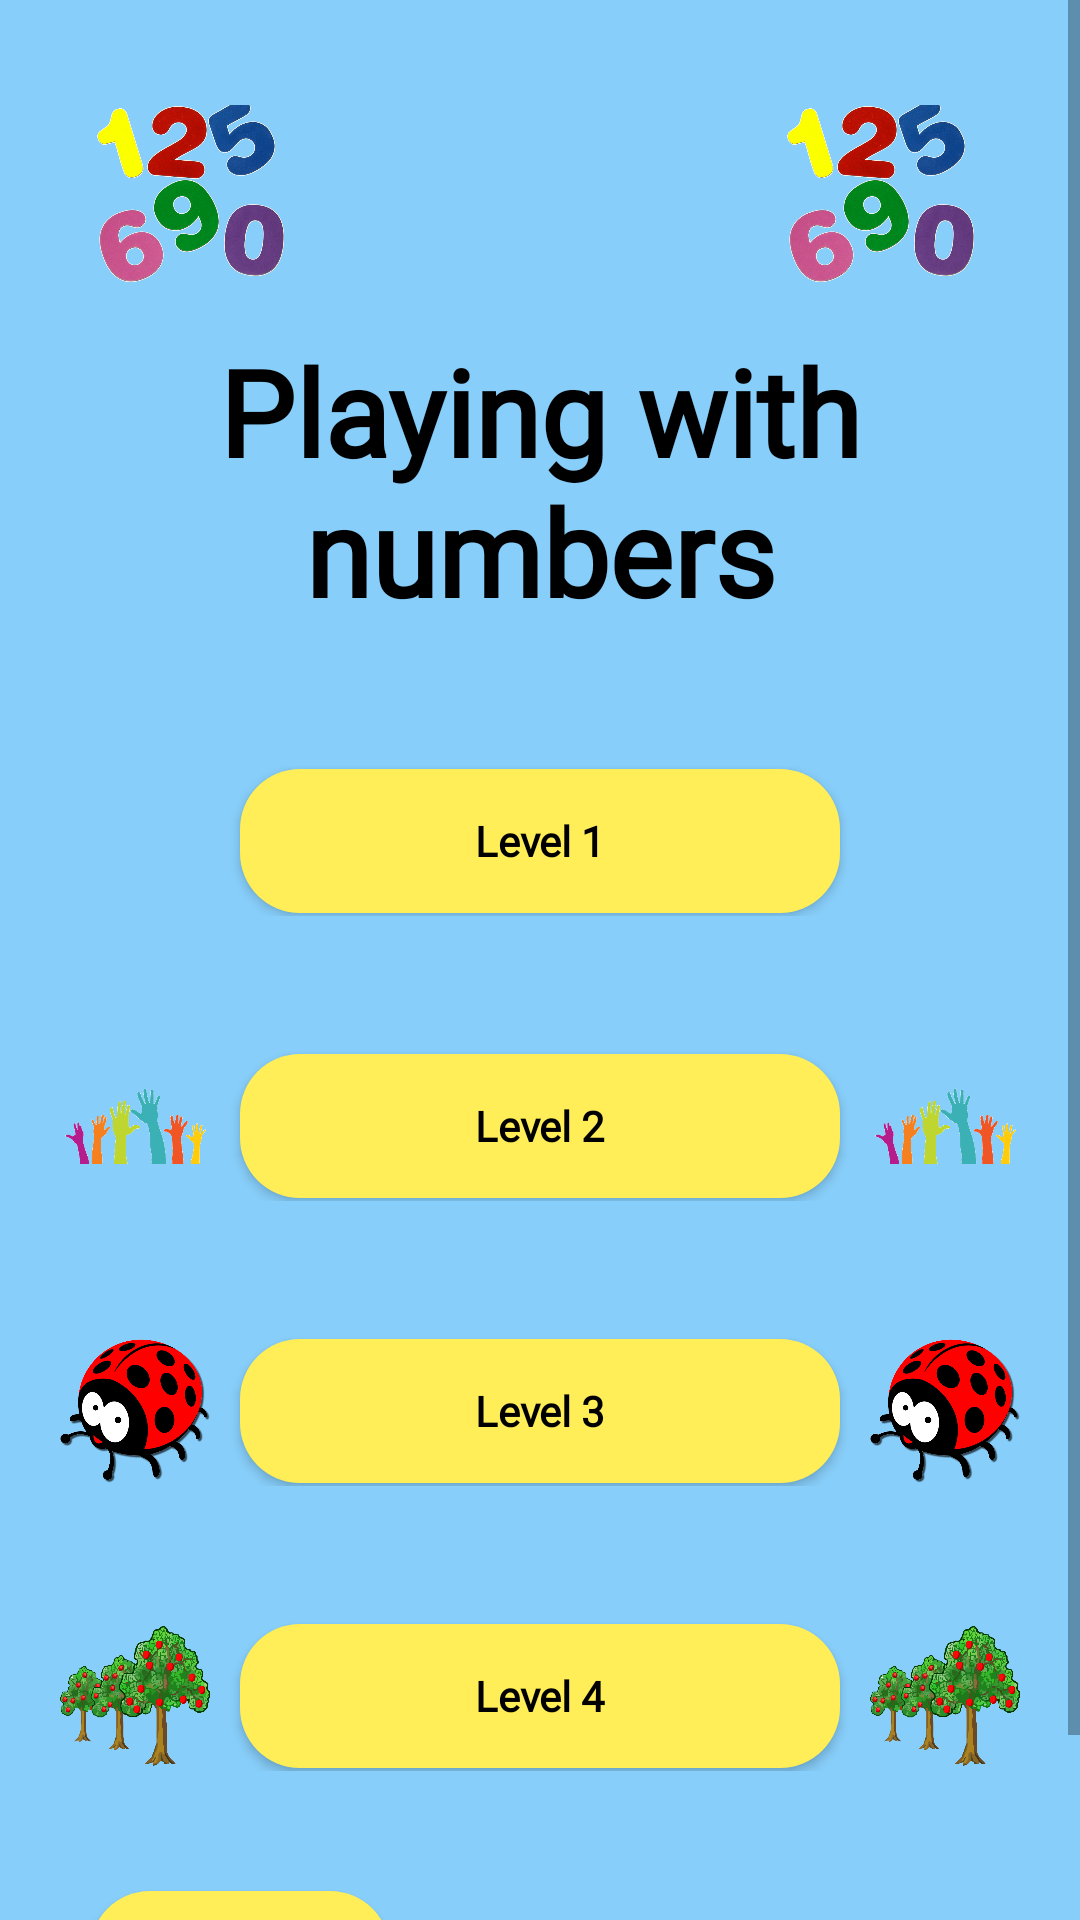

Named icons in this screenshot (1080 × 1920) and their centers, (x=x, y=y):
ladybugactivity: (x=134, y=1410), (x=944, y=1410)
numberactivitypage: (x=190, y=193), (x=880, y=193)
treelevelpage: (x=135, y=1696), (x=945, y=1696)
